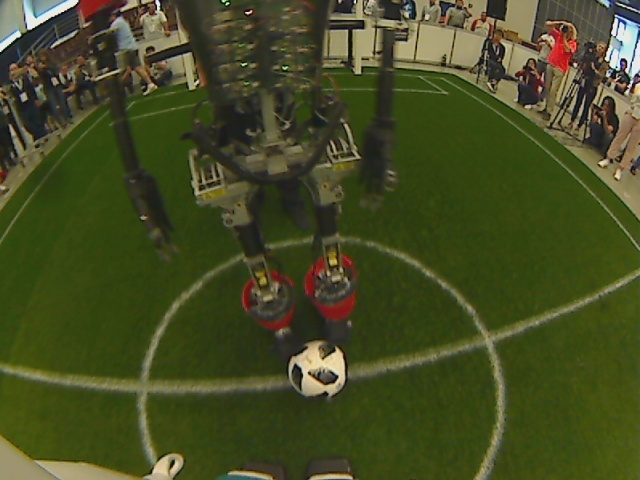ball: (286, 339, 351, 401)
